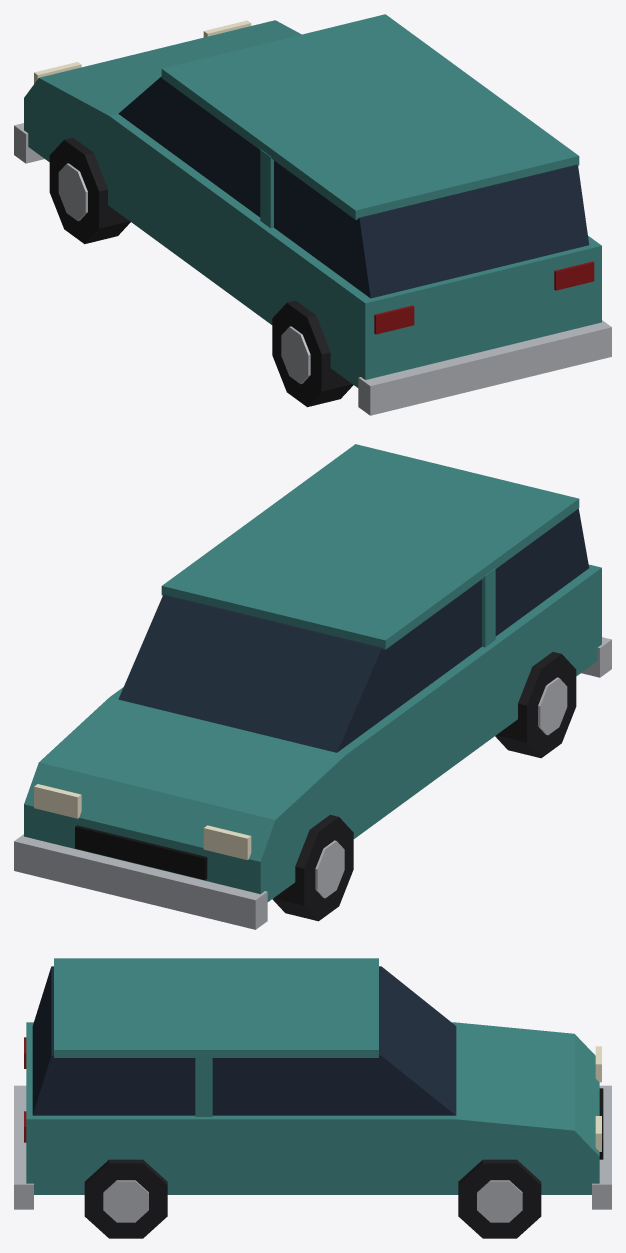
File: CarWagonTeal.obj
3 renders of one model, top to bottom at view 1: azimuth 30°, elevation 25°; view 2: azimuth 150°, elevation 25°; view 3: azimuth 270°, elevation 25°, orthographic. The views are drawn at different scales.
Visible parts, largest first — view 1: CarWagonTeal; view 2: CarWagonTeal; view 3: CarWagonTeal.
Boxes of the visible parts, bbox=[...] form: CarWagonTeal: bbox=[14, 14, 611, 415]; CarWagonTeal: bbox=[14, 444, 611, 929]; CarWagonTeal: bbox=[14, 958, 611, 1238].
Bounding box in the file's own units: 2.01 × 1.61 × 4.8.
Materials: 1 (1 with a texture image).
